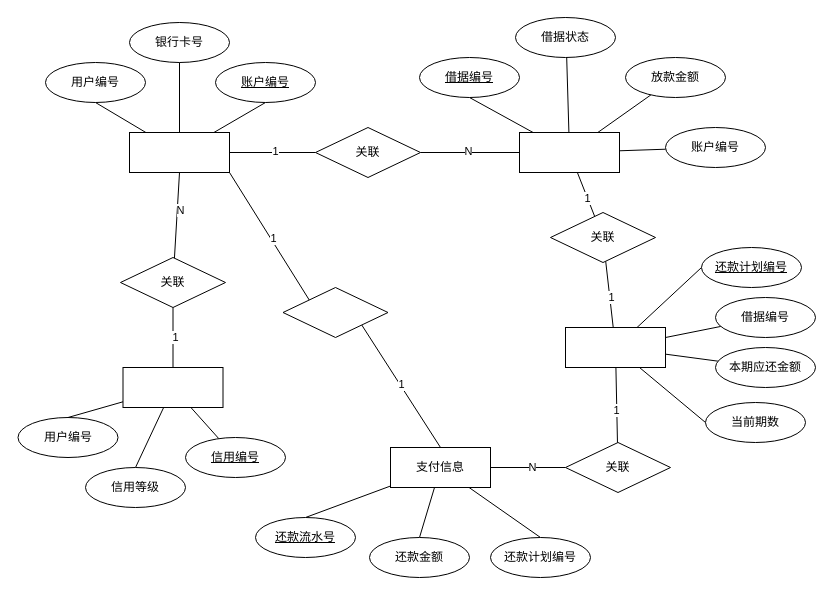
This 833x595 diagram has some shape labels left out. The centre of each missing label's shape, as x and y in pixels:
"信用信息" goes at [172,387].
"借据" goes at [569,152].
"账户" goes at [179,152].
"还款" goes at [335,312].
"还款计划" goes at [615,347].
